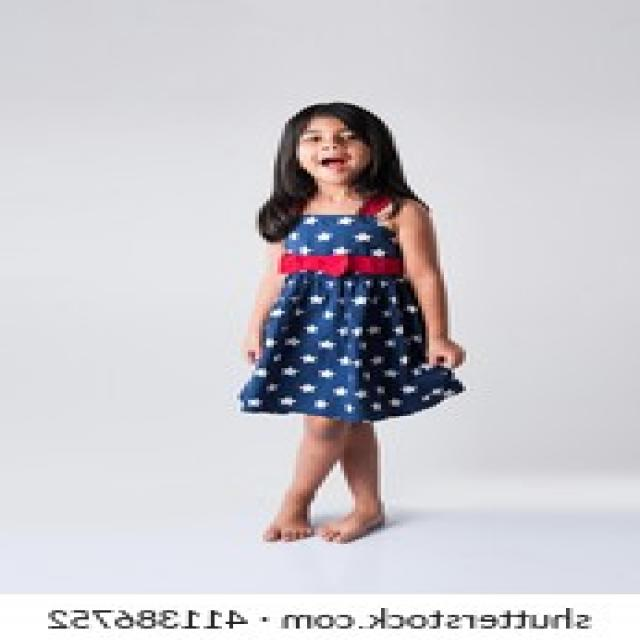child: (218, 92, 481, 553)
